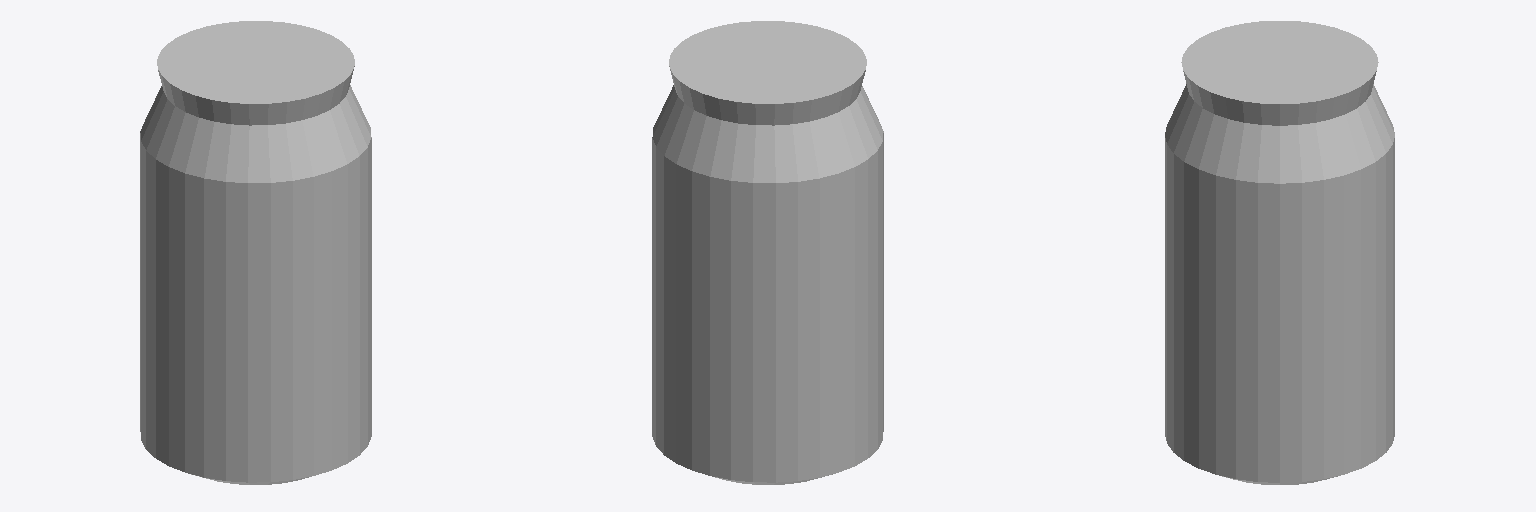
The model's file is jar.obj.
3 renders of one model, left to right at view 1: azimuth 30°, elevation 25°; view 2: azimuth 150°, elevation 25°; view 3: azimuth 270°, elevation 25°, orthographic.
Visible parts, largest first — view 1: Cylinder; view 2: Cylinder; view 3: Cylinder.
Boxes of the visible parts, box(x1,y1,x2,y2) form: Cylinder: box(140, 21, 371, 484); Cylinder: box(652, 21, 883, 484); Cylinder: box(1165, 21, 1394, 484).
Bounding box in the file's own units: 3.08 × 5.66 × 3.06.